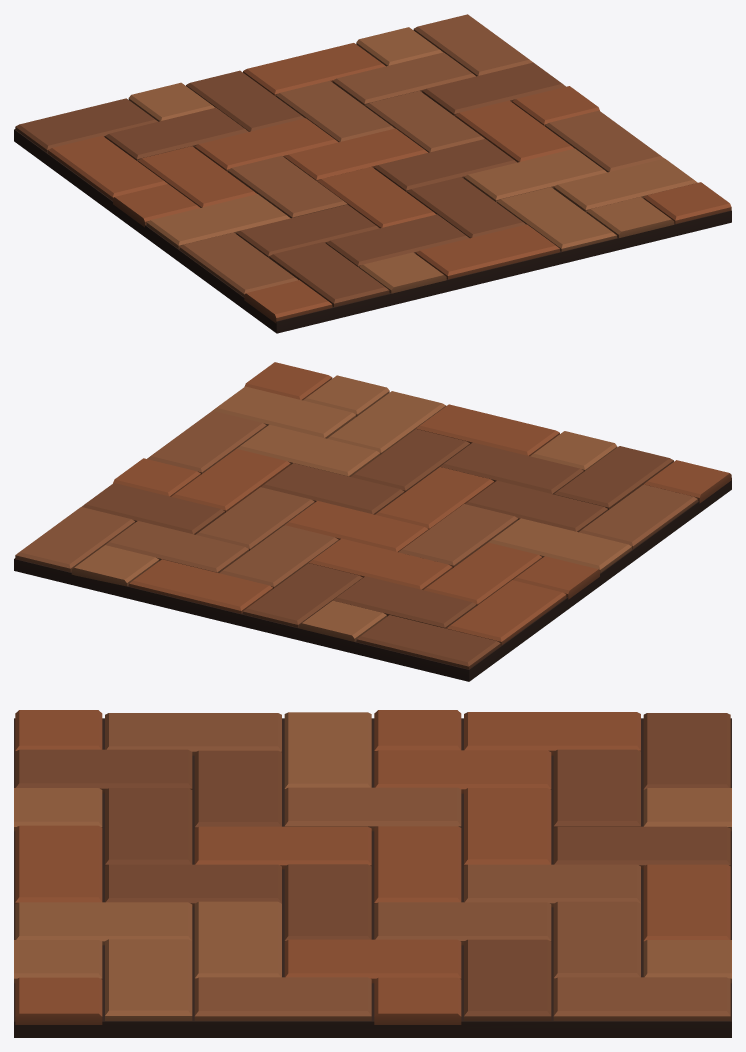
File: floor_parquet_large_C.glb
The picture shows the model from 3 angles, top to bottom: view 1: azimuth 30°, elevation 25°; view 2: azimuth 150°, elevation 25°; view 3: azimuth 270°, elevation 25°; orthographic projection. The views are drawn at different scales.
Visible parts, largest first — view 1: Item; view 2: Item; view 3: Item.
Boxes of the visible parts, <box> form: Item: <box>14,14,731,333</box>; Item: <box>14,362,731,681</box>; Item: <box>14,710,731,1037</box>.
Bounding box in the file's own units: 4 × 0.1538 × 4.
Materials: 1 (1 with a texture image).
